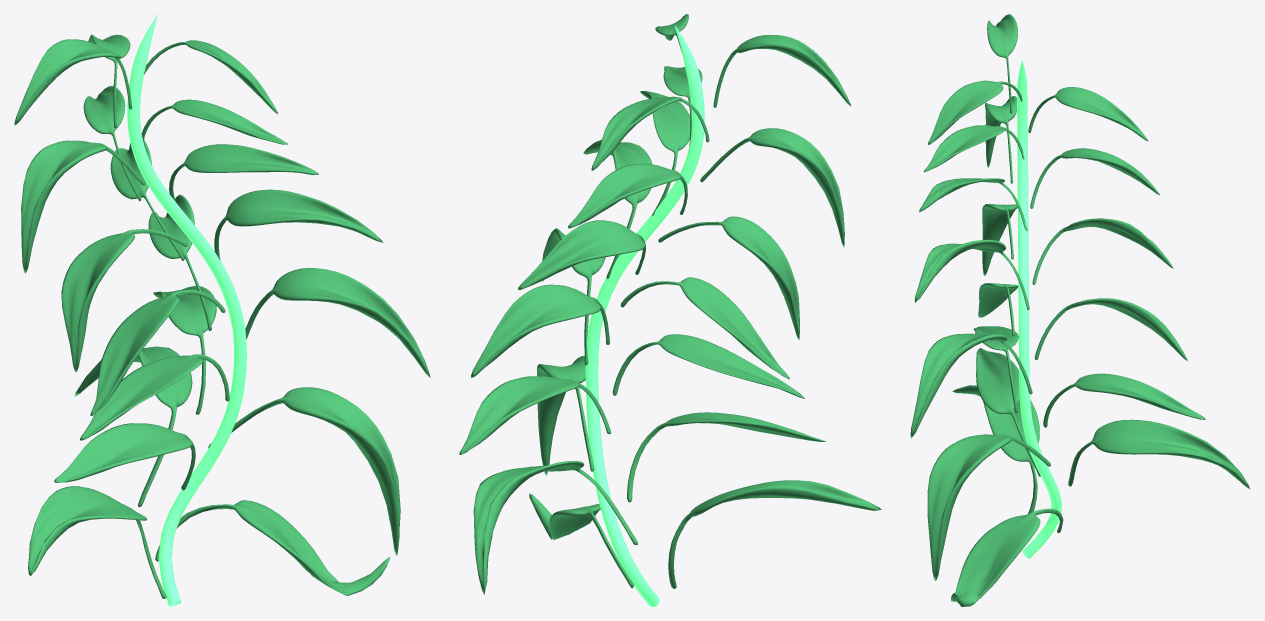
Rendered from Plant2_Medium.fbx.
3 renders of one model, left to right at view 1: azimuth 30°, elevation 25°; view 2: azimuth 150°, elevation 25°; view 3: azimuth 270°, elevation 25°, orthographic. The views are drawn at different scales.
Parts seen in each view (by area): view 1: Leaf, Stem; view 2: Leaf, Stem; view 3: Leaf, Stem.
Boxes of the visible parts, x1=… form: Leaf: x1=14, y1=34, x2=430, y2=598; Stem: x1=127, y1=14, x2=246, y2=606; Leaf: x1=459, y1=14, x2=881, y2=594; Stem: x1=585, y1=25, x2=704, y2=606; Leaf: x1=910, y1=14, x2=1250, y2=606; Stem: x1=1017, y1=60, x2=1061, y2=558.
Size of the model in its own units: 365 by 559 by 351.
